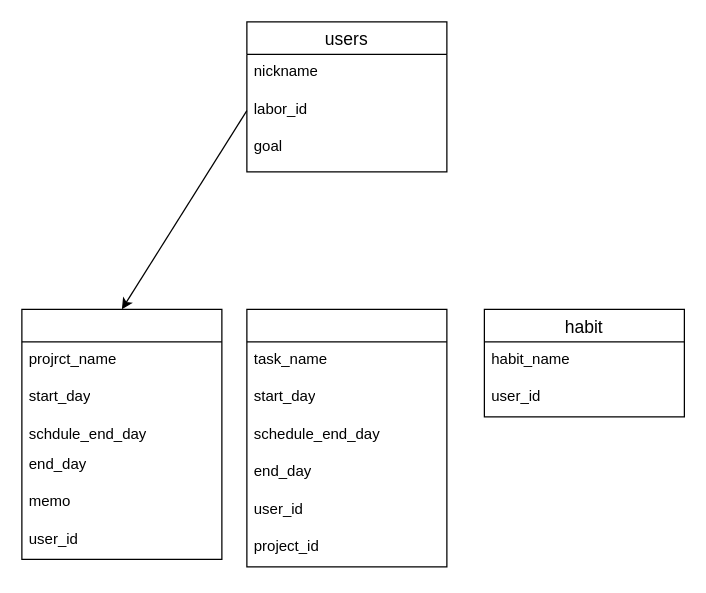
The diagram is 706 pixels wide and 593 high, and some of its shapes have lost their labels. Here are the shapes that lost their labels. From the top down, the box of each, then its label:
(21, 308, 222, 559): projects
(246, 308, 447, 567): tasks
